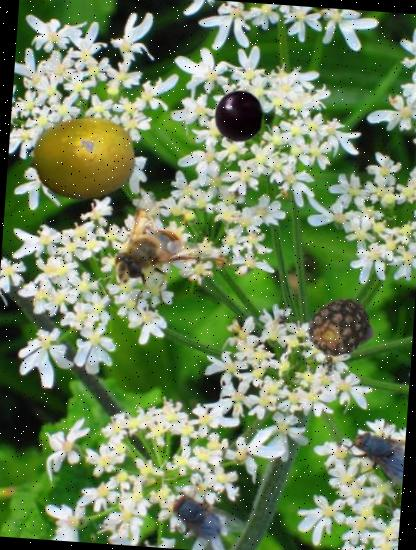Cherry: (210, 88, 267, 145)
Maracuja: (26, 101, 140, 216)
Pineapple: (303, 292, 375, 364)
